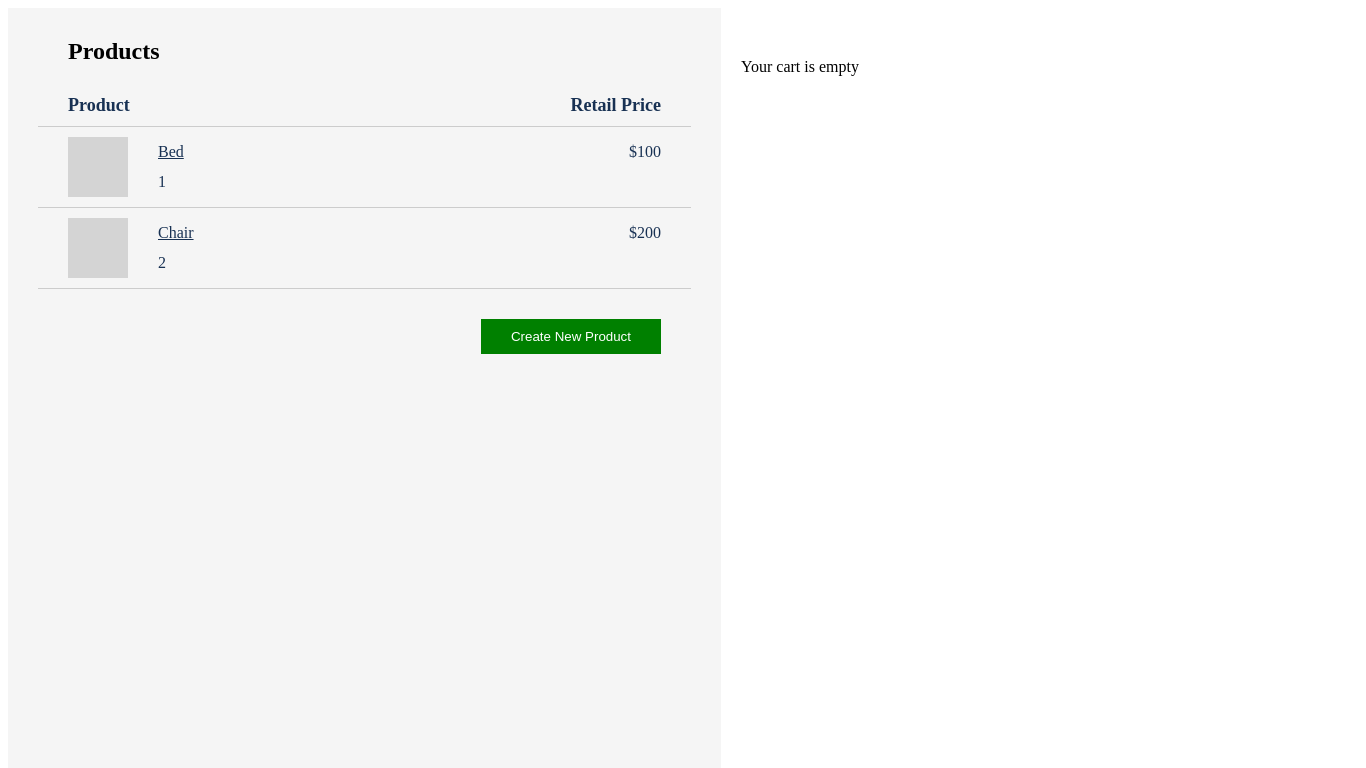
Test: App component › Click remove button, item will be removed from cart
// user add Bed to cart
What coordinates should you click on to do the following:
click the text "Bed"
I would click on:
 (171, 152)
Its box is [158,143,184,160].
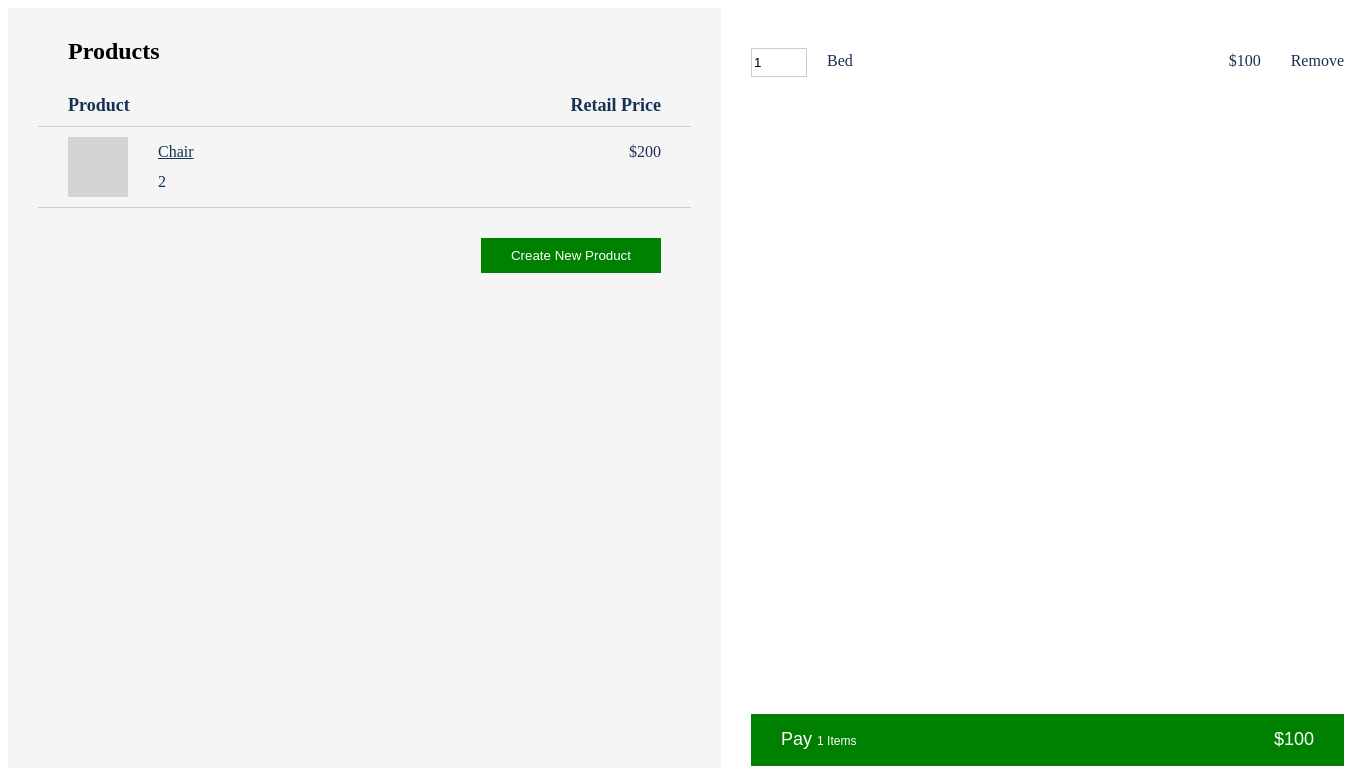
Expected: the text "Pay" is shown, [781,729,817,749]
Expected: the text "$100" is shown 2 times, [1229,52,1261,69]; [1274,729,1314,749]
Expected: the field with test id "item-1-qty" is shown, [751,48,807,77]
// click remove button
What coordinates should you click on to do the following:
click the text with test id "item-1-remove"
I would click on:
 (1317, 60)
Its box is [1291,52,1344,69].
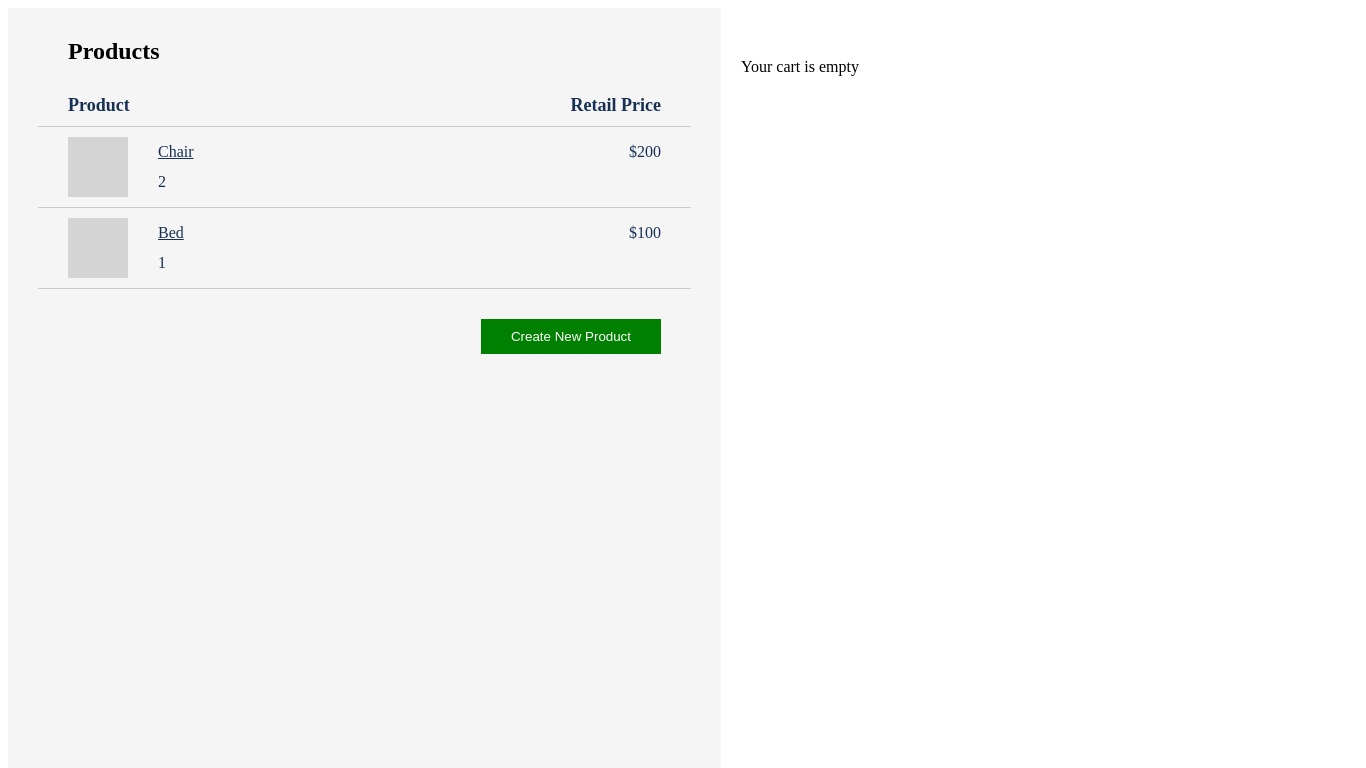
Expected: the field with test id "item-1-qty" is gone
Expected: the button "Pay" is gone
